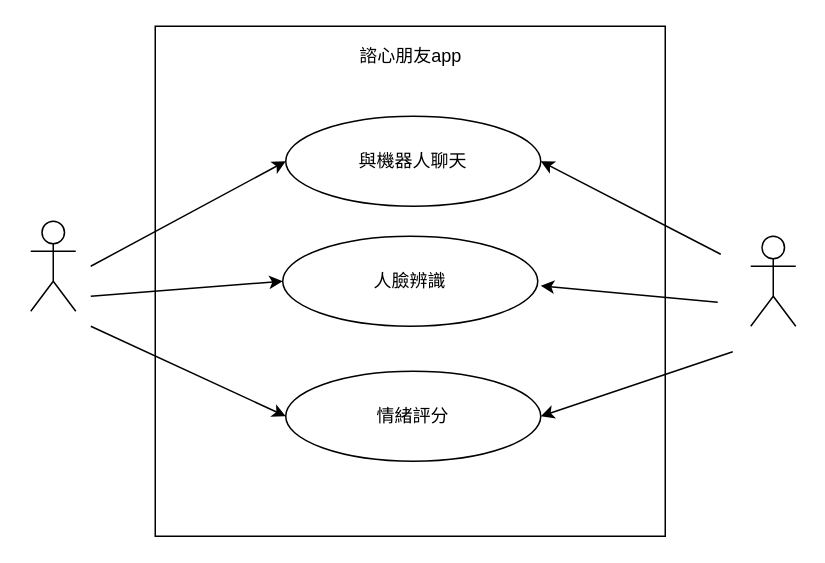
Some shapes in this 825 by 563 pixel diagram are drawn without their labels. Each missing label, with the box of its shape:
伺服器: (749, 235, 796, 326)
使用者: (29, 220, 76, 311)
